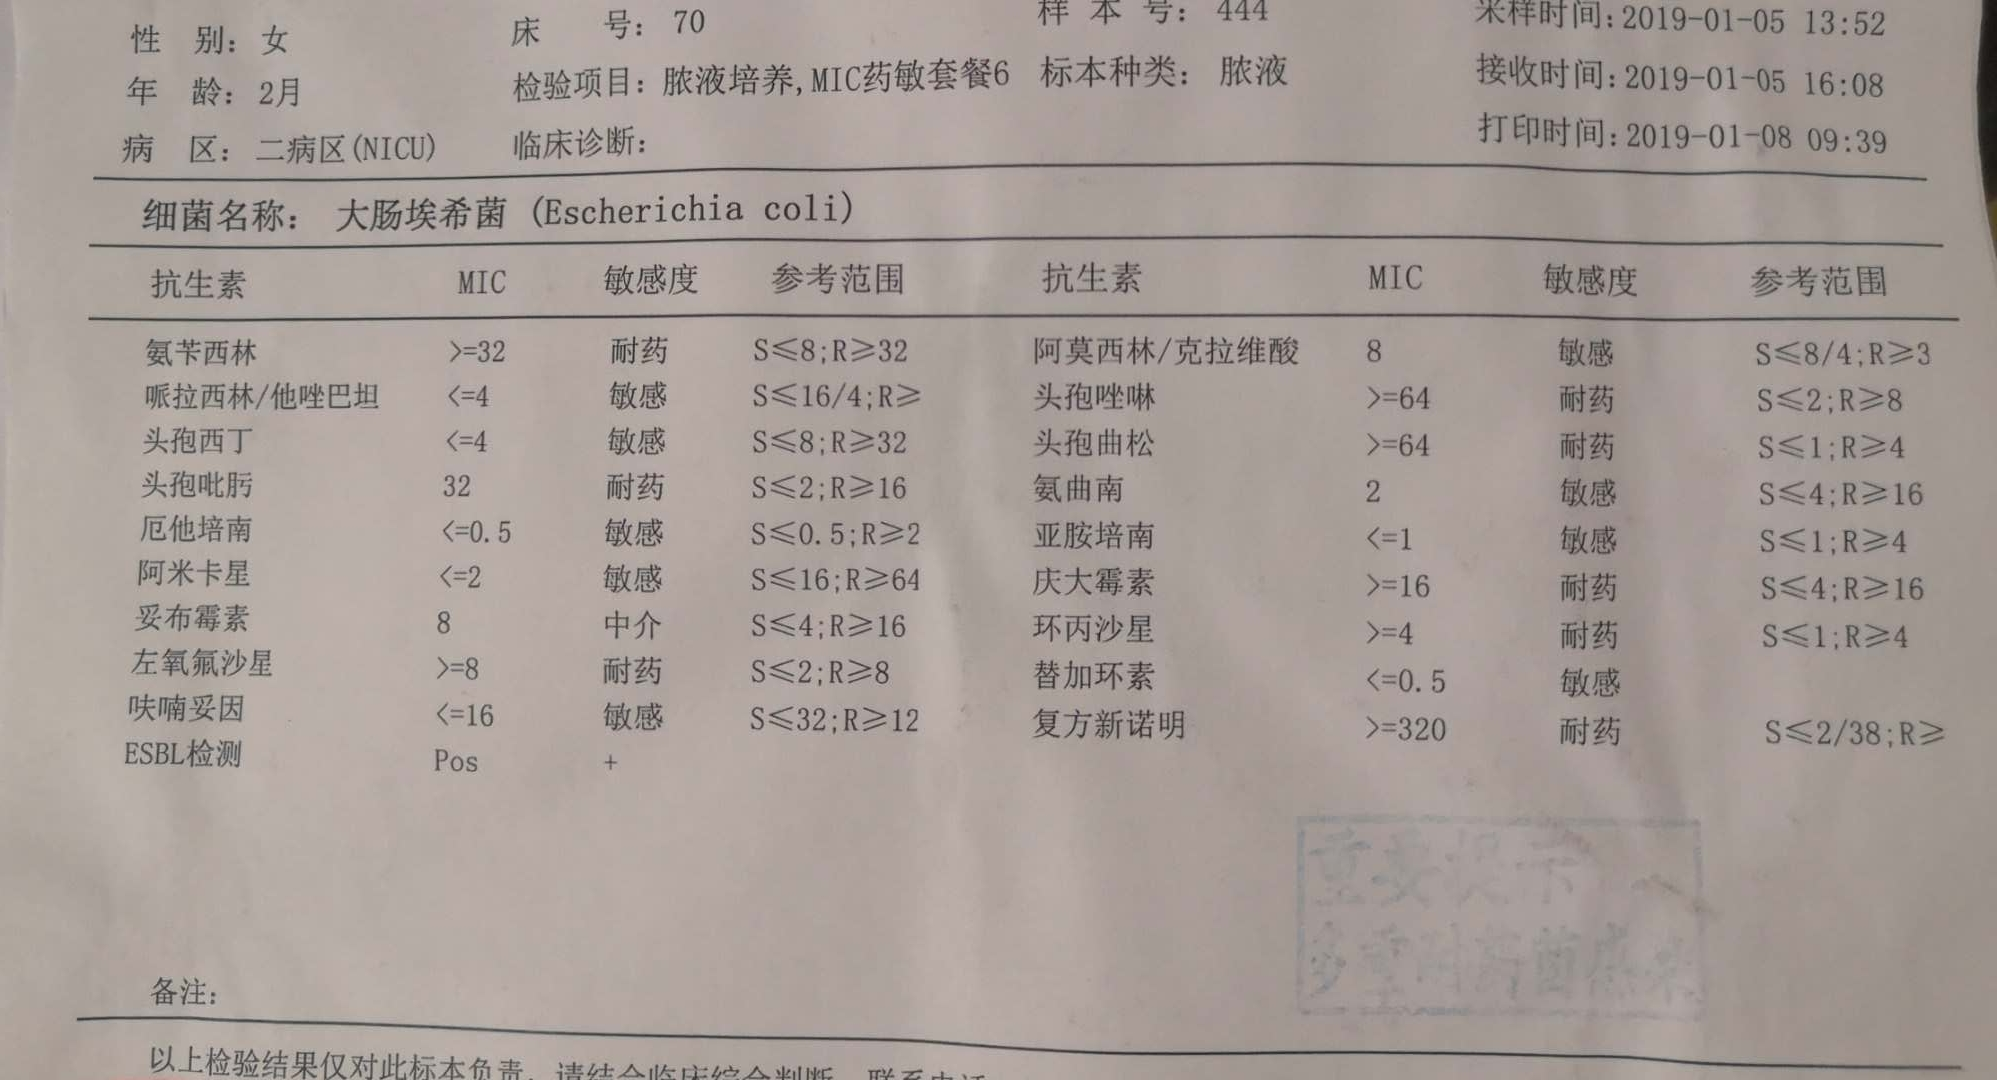table: (88, 244, 1968, 782)
